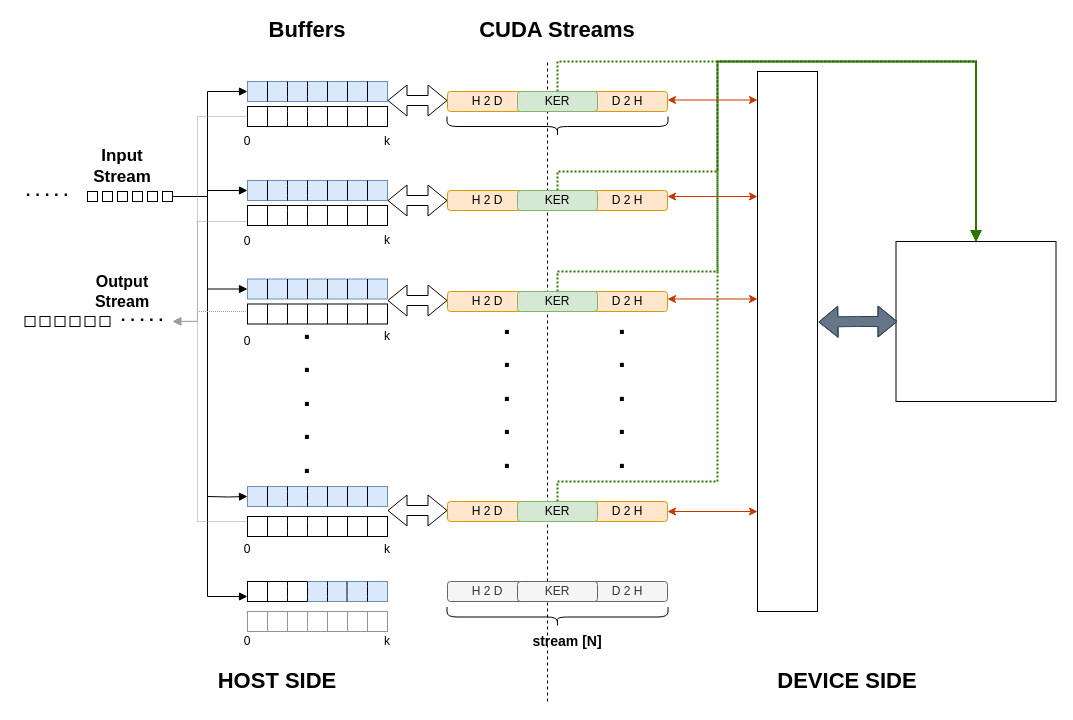
The diagram is 1073 pixels wide and 720 high, and some of its shapes have lost their labels. The box of each missing label's shape, as (x1, y1, x2, y2) in pixels:
Global Memory: (756, 70, 818, 612)
GPU Cores: (895, 240, 1056, 402)
stream [0]: (446, 116, 668, 136)
